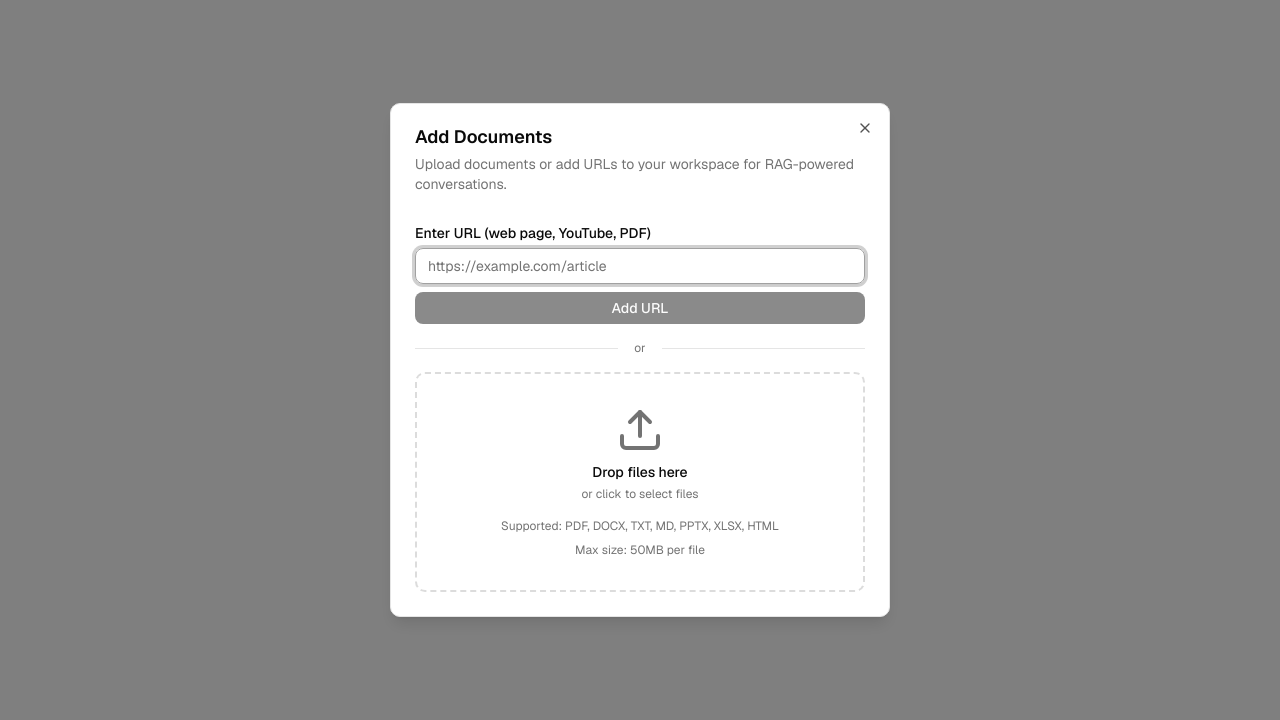
Test: UploadModal › shows YouTube icon for YouTube URLs
The width and height of the screenshot is (1280, 720).
In the field with test id "url-input": (640, 266) [415,248,865,284], type "https://youtube.com/watch?v=abc"
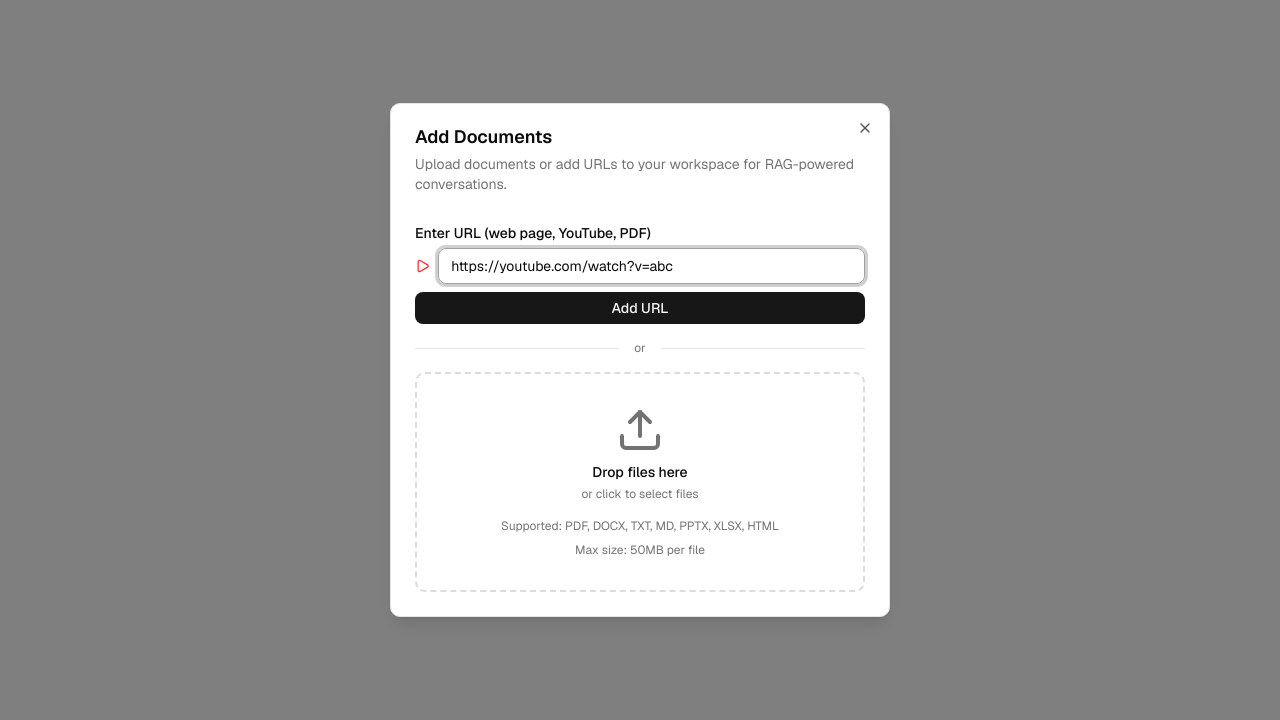
Expected: the icon with test id "url-type-icon-youtube" is shown, [415,258,430,274]
